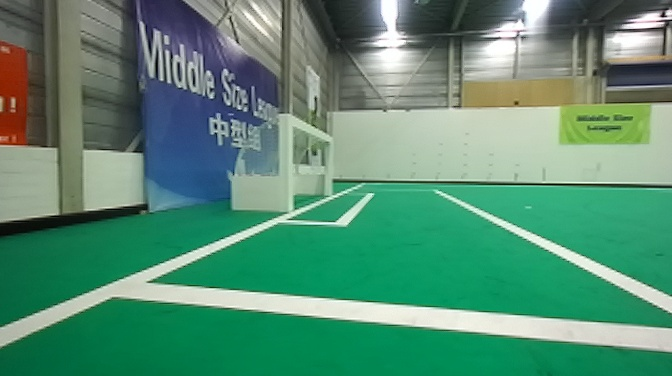goalpost: (273, 108, 296, 217), (316, 124, 340, 206)
